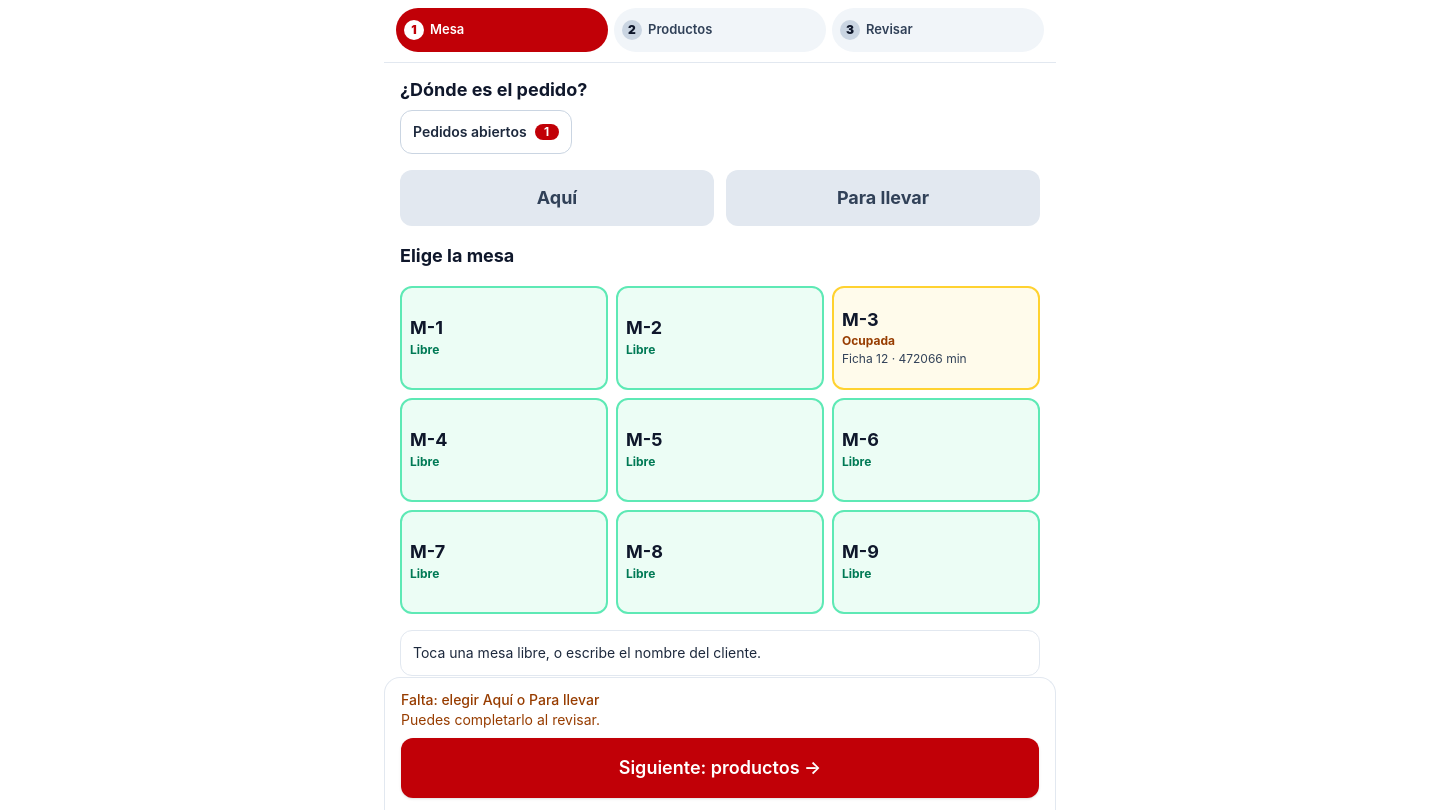
it: open orders › reloads the open orders, not the catalog, when the realtime signal arrives
The image size is (1440, 810).
Click the button "Pedidos abiertos 1".
click(486, 132)  # box [400,110,572,154]
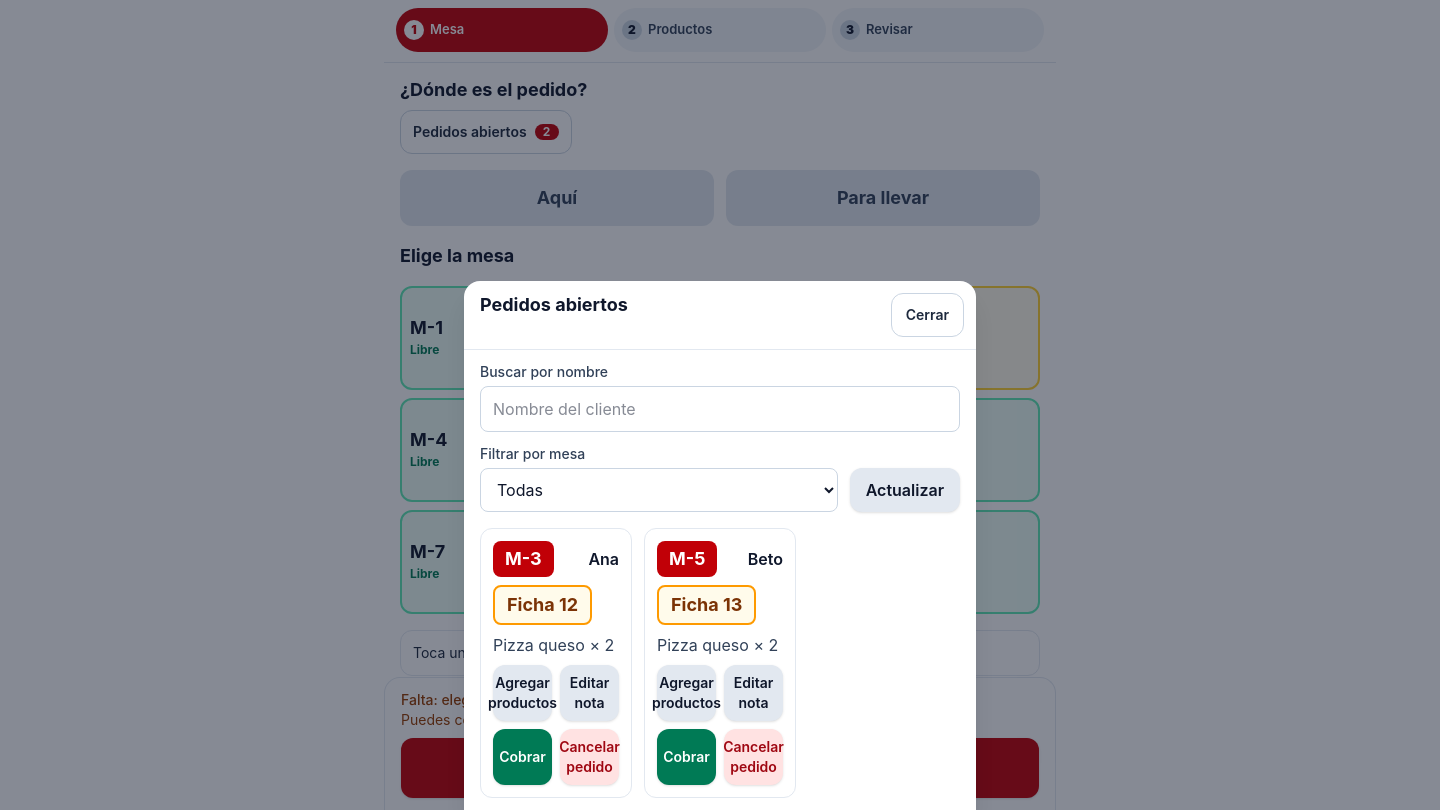
Expected: the text "Beto" is shown, [748,547,783,571]
